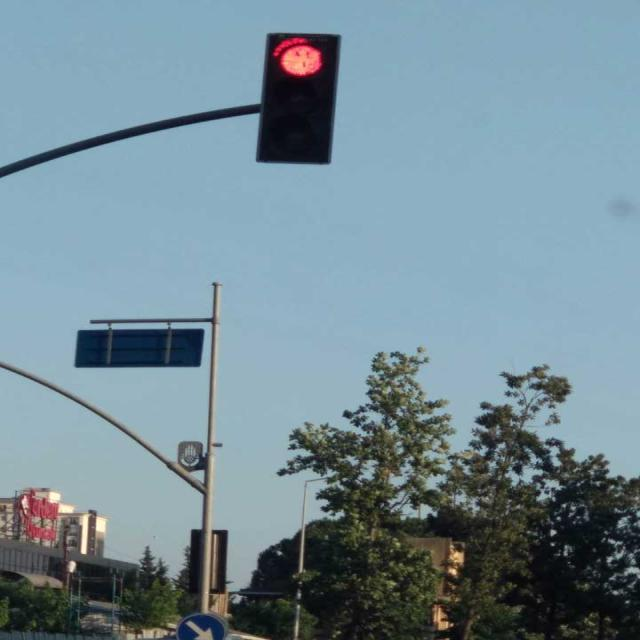kirmizi: (256, 33, 343, 164)
